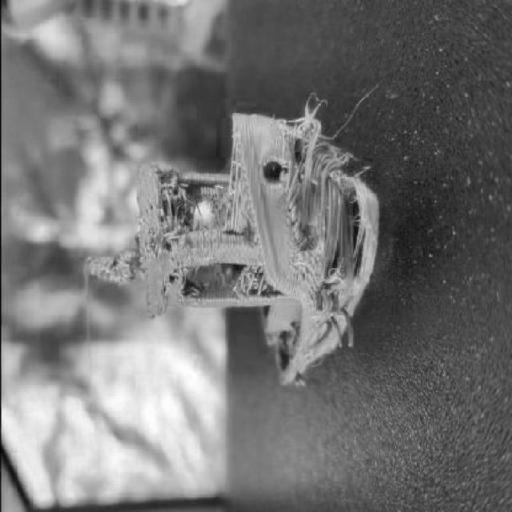spaghetti_and_stringing: (274, 84, 384, 314), (80, 158, 198, 318)
